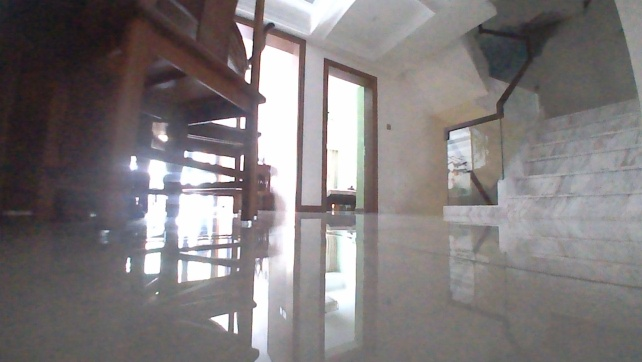dining_table1: (0, 0, 277, 235)
